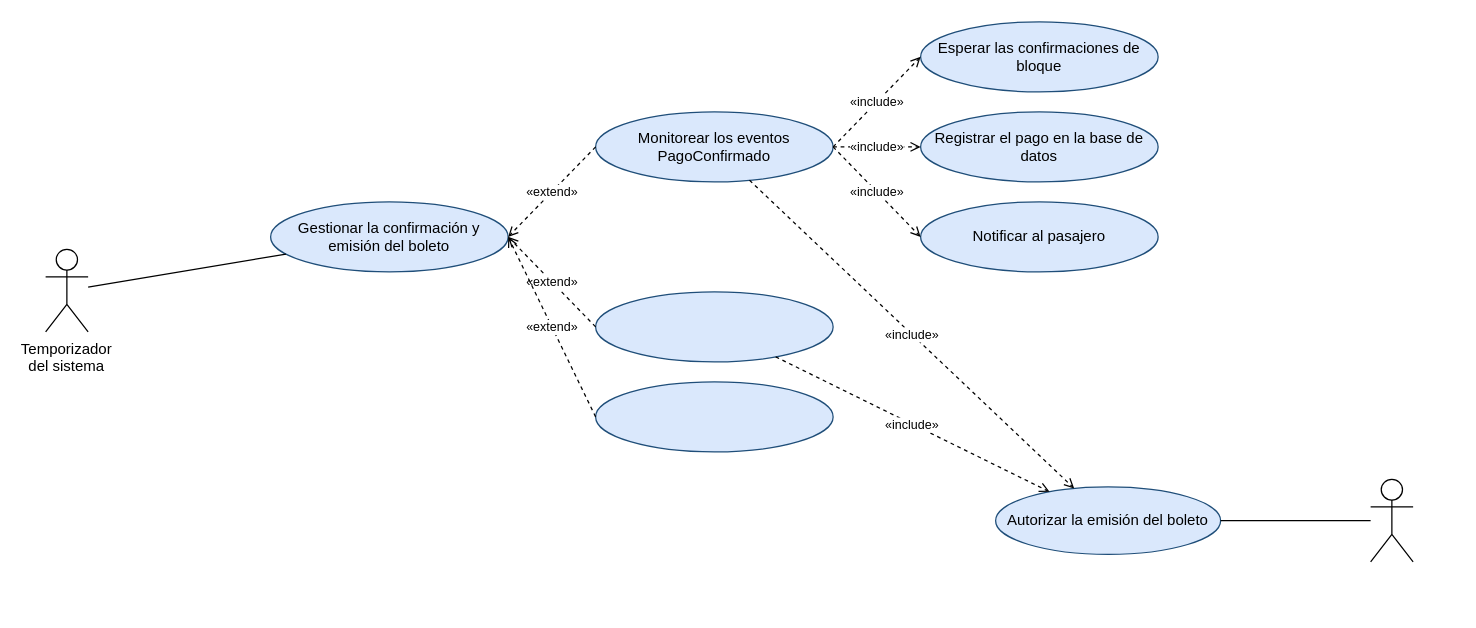
Image size: 1476x628. Some labels were removed from this diagram. Each missing label, with the centre of its shape:
Expirar las solicitudes vencidas: the point at 713,416
Reintentar las emisiones pendientes: the point at 713,326
Sistema central de reservas de BoA: the point at 1391,520
